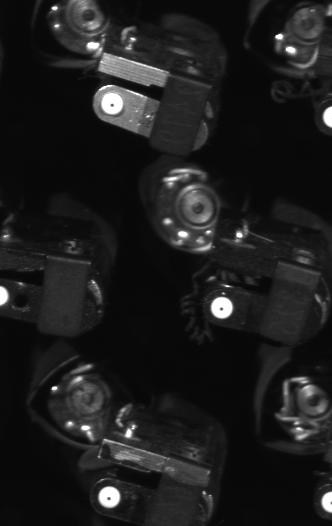fiber: (93, 484, 127, 513), (98, 89, 128, 119), (207, 293, 237, 323), (316, 488, 332, 518), (321, 98, 332, 134), (1, 279, 11, 314)
